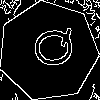Q: (23, 25, 78, 71)
